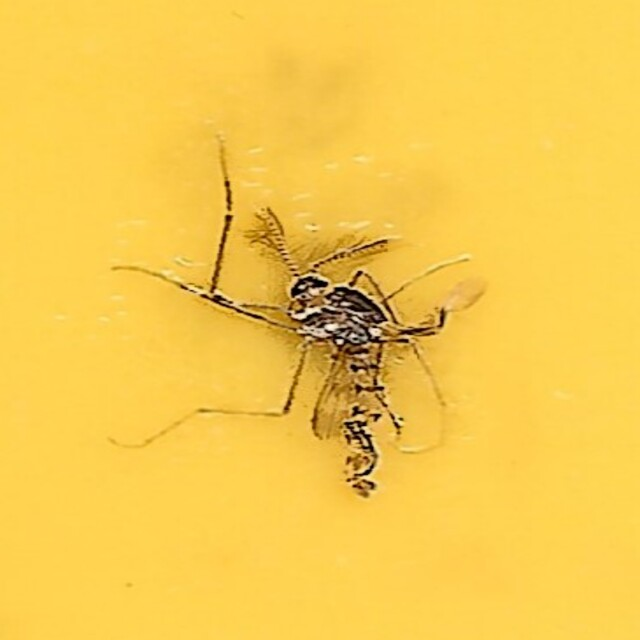Nematocera: (175, 136, 465, 504)
